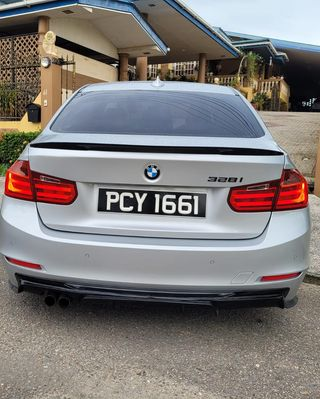License-Plate: (99, 188, 205, 211)
